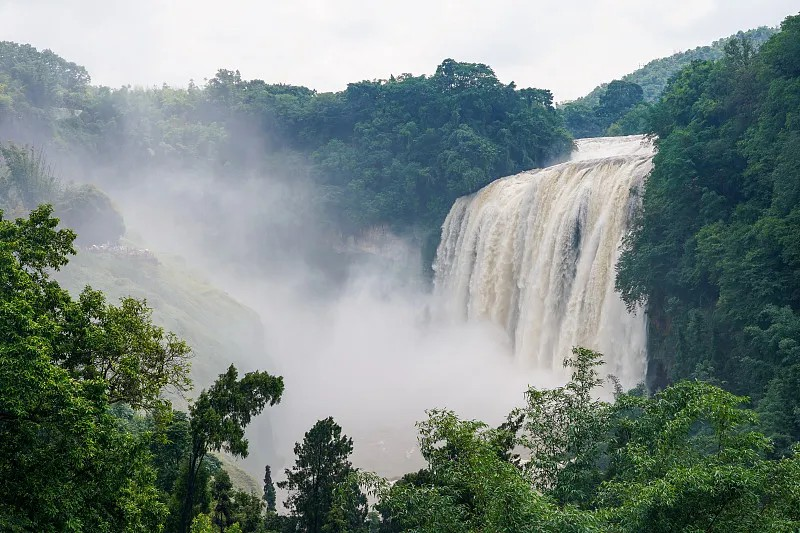Huangguoshu: (435, 135, 658, 388)
